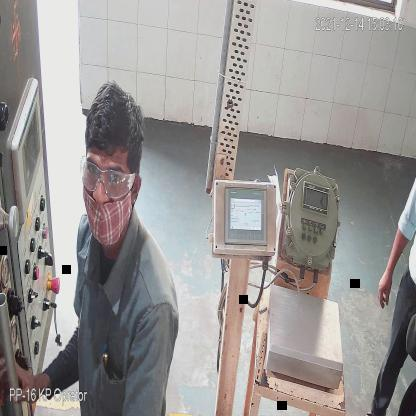goggles: (81, 158, 135, 201)
